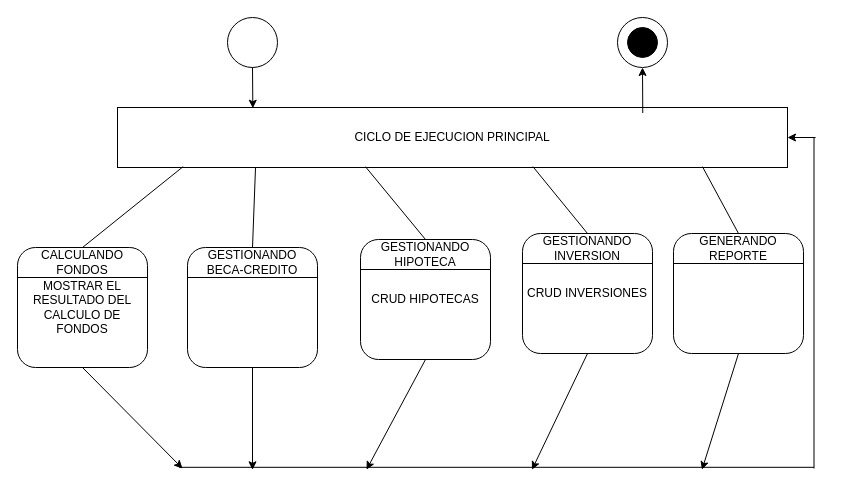
Image size: 842x496. Some labels were removed from this diagram. The box of each missing label's shape, as (x1, y1, x2, y2) in pixels:
CRUD BECAS-CREDITO: (186, 246, 318, 368)
GENERAR E IMPRIMIR REPORTE: (672, 232, 804, 354)
